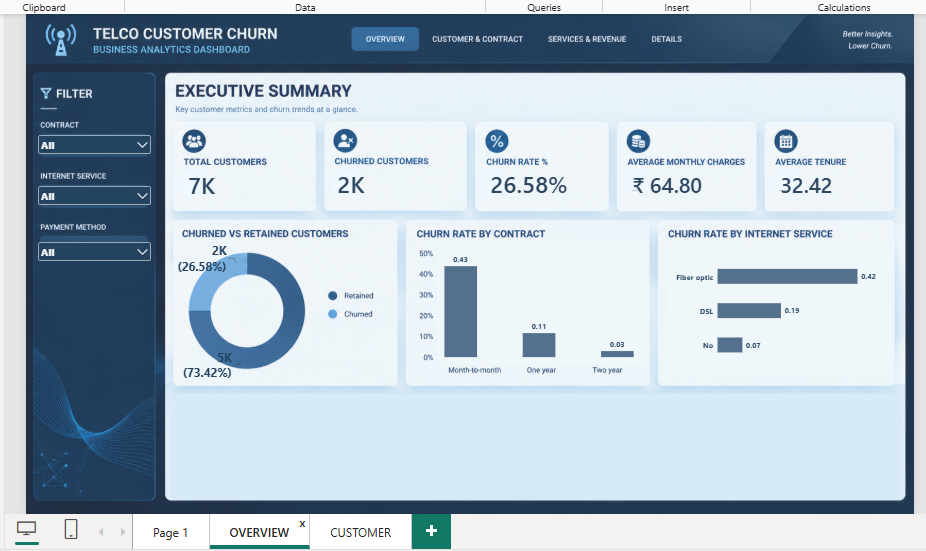

The page's visual inventory and layout, read from the dashboard file:
{"tool":"powerbi","page":{"name":"OVERVIEW","canvas":[1920,1080],"ordinal":1},"visuals":[{"type":"shape","box":[335,341.2,48.8,51.2],"z":0},{"type":"cardVisual","fields":{"Data":["Telco-Customer-Chur.TOTAL CUSTOMERS"]},"box":[335,341.2,108.8,52.5],"z":1000},{"type":"shape","box":[662.5,341.2,48.8,51.2],"z":2000},{"type":"shape","box":[987.5,341.2,48.8,51.2],"z":3000},{"type":"cardVisual","fields":{"Data":["Telco-Customer-Chur.CHURN CUSTOMER"]},"box":[656.2,340,108.8,52.5],"z":4000},{"type":"cardVisual","fields":{"Data":["Telco-Customer-Chur.CHURN RATE"]},"box":[987.5,340,230,52.5],"z":5000},{"type":"shape","box":[1293.8,340,50,42.5],"z":6000},{"type":"cardVisual","fields":{"Data":["Telco-Customer-Chur.AVG MONTHLY CHARGES"]},"box":[1293.8,341.2,211.2,52.5],"z":7000},{"type":"shape","box":[1612.5,340,50,42.5],"z":8000},{"type":"donutChart","fields":{"Category":["Telco-Customer-Chur.Churn"],"Y":["Count(Telco-Customer-Chur.customerID)"]},"box":[293.8,466.2,406.2,337.5],"z":9000},{"type":"columnChart","fields":{"Category":["Telco-Customer-Chur.Contract"],"Y":["Telco-Customer-Chur.CHURN RATE"]},"box":[888.8,488.8,455,270],"z":10000},{"type":"barChart","fields":{"Category":["Telco-Customer-Chur.InternetService"],"Y":["Divide(Telco-Customer-Chur.CHURN RATE, ScopedEval(Telco-Customer-Chur.CHURN RATE, []))"]},"box":[1387.5,498.8,483.8,282.5],"z":11000},{"type":"textbox","box":[150,342,300,150],"z":12000},{"type":"textbox","box":[423.3,923.3,388.3,111.7],"z":13000},{"type":"textbox","box":[935,923.3,408.3,88.3],"z":14000},{"type":"textbox","box":[1485,933.3,386.7,101.7],"z":15000},{"type":"slicer","fields":{"Values":["Telco-Customer-Chur.PaymentMethod"]},"box":[21.6,488.2,252.7,51.8],"z":16000},{"type":"slicer","fields":{"Values":["Telco-Customer-Chur.InternetService"]},"box":[21.6,367.2,252.7,51.8],"z":17000},{"type":"slicer","fields":{"Values":["Telco-Customer-Chur.Contract"]},"box":[21.6,257,252.7,51.8],"z":18000},{"type":"cardVisual","fields":{"Data":["Avg(Telco-Customer-Chur.tenure)"]},"box":[1612.9,341.4,211.2,52.5],"z":18001},{"type":"shape","box":[311,820.8,1581.1,225],"z":18002}]}

Visuals, with their boxes on the page's 1920x1080 design canvas (x1, y1, x2, y2). These are canvas units, not pixel positions in the 926x551 screenshot, which may show the page scaled, cropped or inside an application window:
shape: (335, 341, 384, 392)
cardVisual - Telco-Customer-Chur.TOTAL CUSTOMERS: (335, 341, 444, 394)
shape: (662, 341, 711, 392)
shape: (988, 341, 1036, 392)
cardVisual - Telco-Customer-Chur.CHURN CUSTOMER: (656, 340, 765, 392)
cardVisual - Telco-Customer-Chur.CHURN RATE: (988, 340, 1218, 392)
shape: (1294, 340, 1344, 382)
cardVisual - Telco-Customer-Chur.AVG MONTHLY CHARGES: (1294, 341, 1505, 394)
shape: (1612, 340, 1662, 382)
donutChart - Telco-Customer-Chur.Churn x Count(Telco-Customer-Chur.customerID): (294, 466, 700, 804)
columnChart - Telco-Customer-Chur.Contract x Telco-Customer-Chur.CHURN RATE: (889, 489, 1344, 759)
barChart - Telco-Customer-Chur.InternetService x Divide(Telco-Customer-Chur.CHURN RATE, ScopedEval(Telco-Customer-Chur.CHURN RATE, [])): (1388, 499, 1871, 781)
textbox: (150, 342, 450, 492)
textbox: (423, 923, 812, 1035)
textbox: (935, 923, 1343, 1012)
textbox: (1485, 933, 1872, 1035)
slicer - Telco-Customer-Chur.PaymentMethod: (22, 488, 274, 540)
slicer - Telco-Customer-Chur.InternetService: (22, 367, 274, 419)
slicer - Telco-Customer-Chur.Contract: (22, 257, 274, 309)
cardVisual - Avg(Telco-Customer-Chur.tenure): (1613, 341, 1824, 394)
shape: (311, 821, 1892, 1046)
